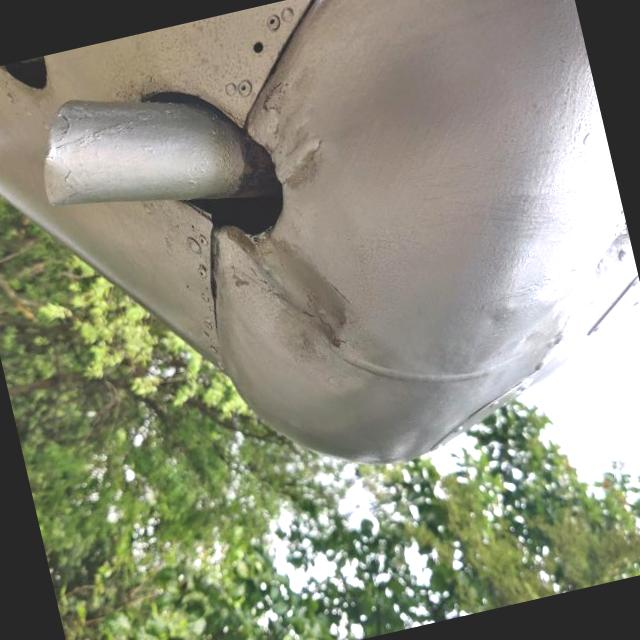dent: (196, 203, 359, 372), (248, 109, 338, 200)
